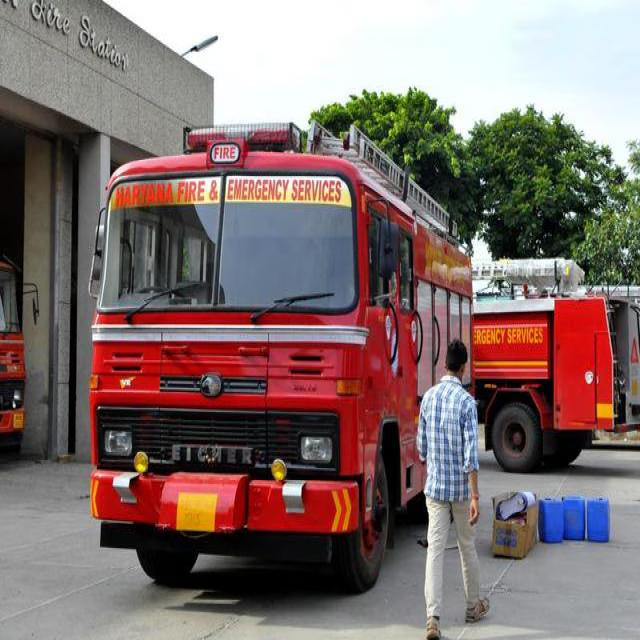Firetruck: (93, 111, 401, 608)
